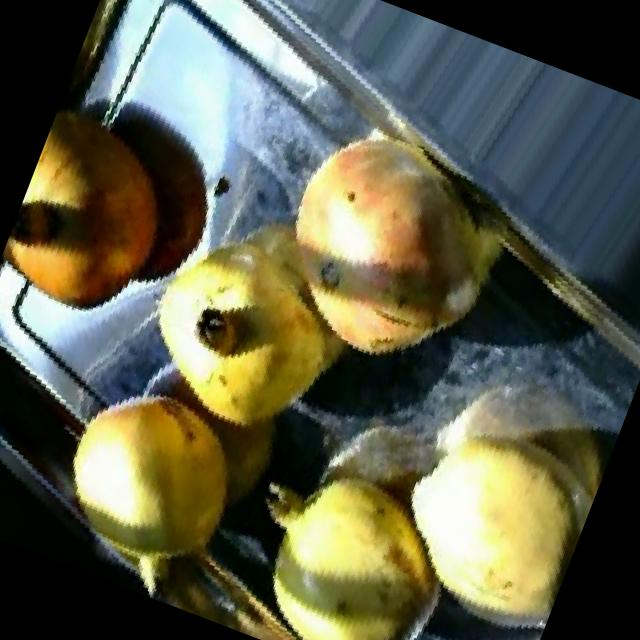fruit: (223, 68, 558, 411), (90, 163, 402, 484), (4, 330, 292, 619), (343, 372, 615, 640), (205, 420, 509, 640), (0, 75, 228, 365)
